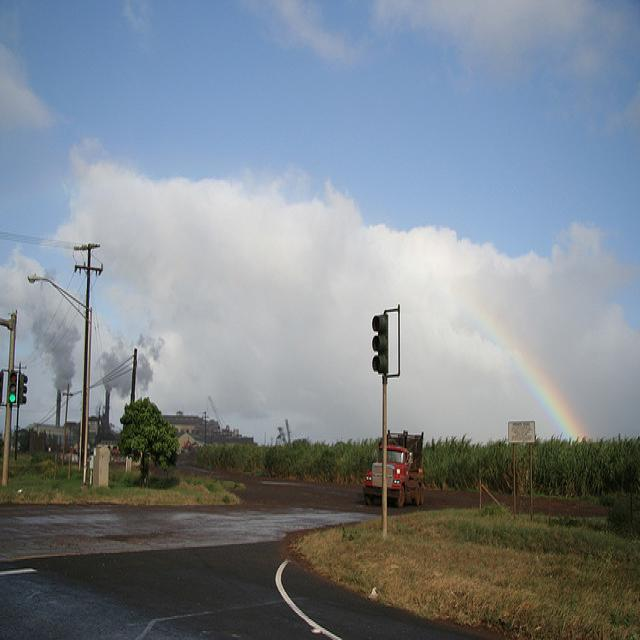Vehicle: (364, 429, 426, 508)
